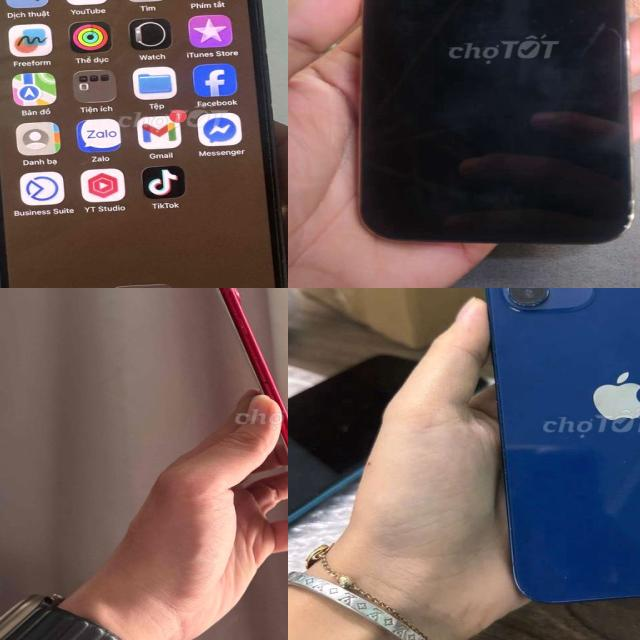gen_12_13: (0, 0, 288, 288), (354, 0, 634, 249), (478, 288, 640, 613)
gen_7_8: (208, 288, 288, 529)
scratch: (264, 380, 278, 400)
